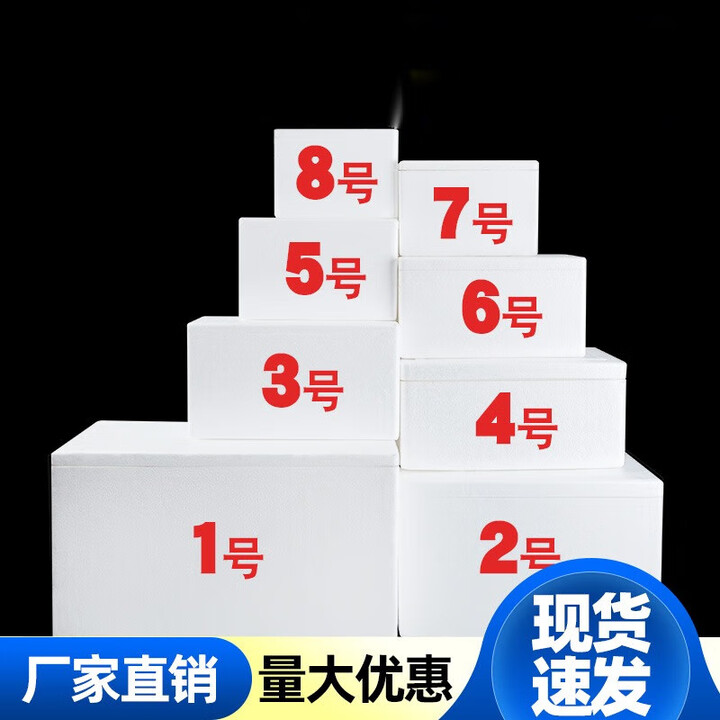Boxes: (52, 130, 662, 637)
